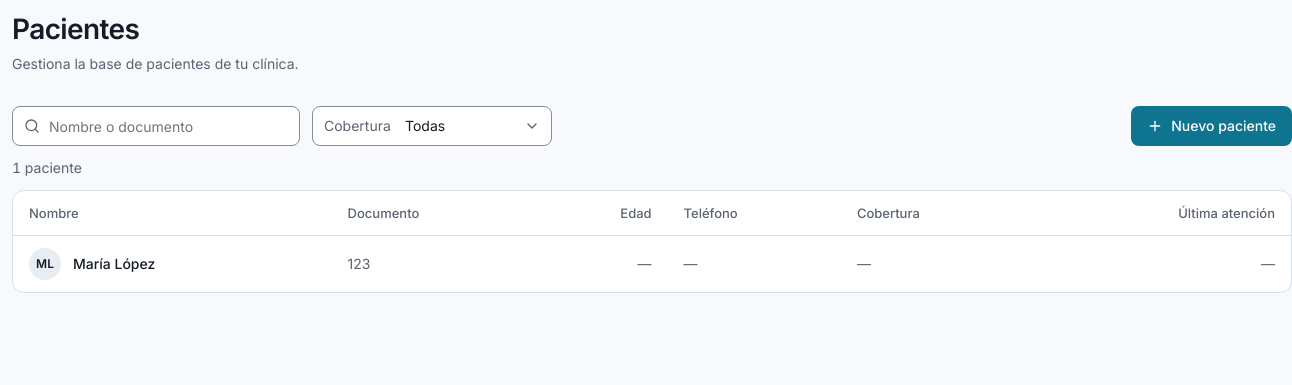
it: PatientsView › filtro por pagador (DX-153) › con un pagador elegido, el vacío habla de filtro y no de pacientes inexistentes
This screenshot has width=1292, height=385.
Expected: the text "1 paciente" is shown, [12,159,82,176]
Select "Colsanavida" in the dropdown labelled "Cobertura" at x=432, y=126, box [312,106,552,146]
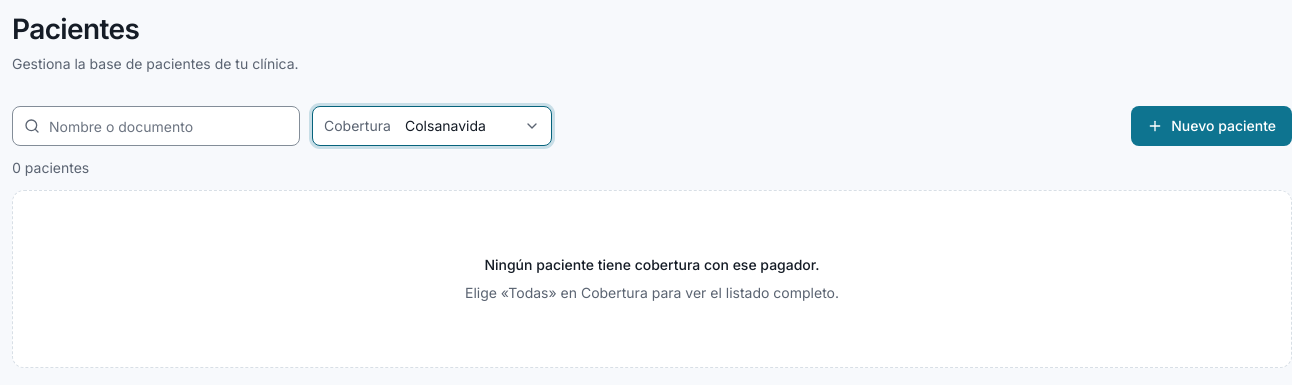
Expected: the text "Ningún paciente tiene cobertura con ese pagador." is shown, [484,255,820,275]
